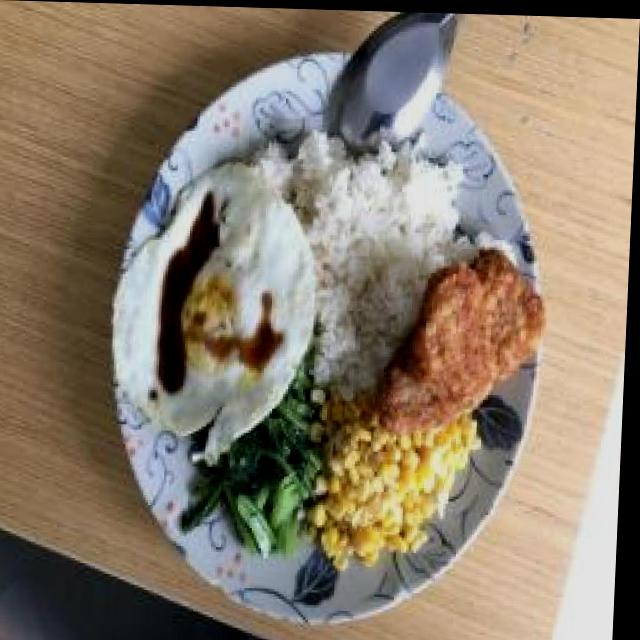fried_eggs: (113, 158, 323, 438)
rice: (318, 141, 433, 358)
triangle_hash_brown: (378, 242, 550, 436)
water_spinach: (188, 377, 332, 558)
